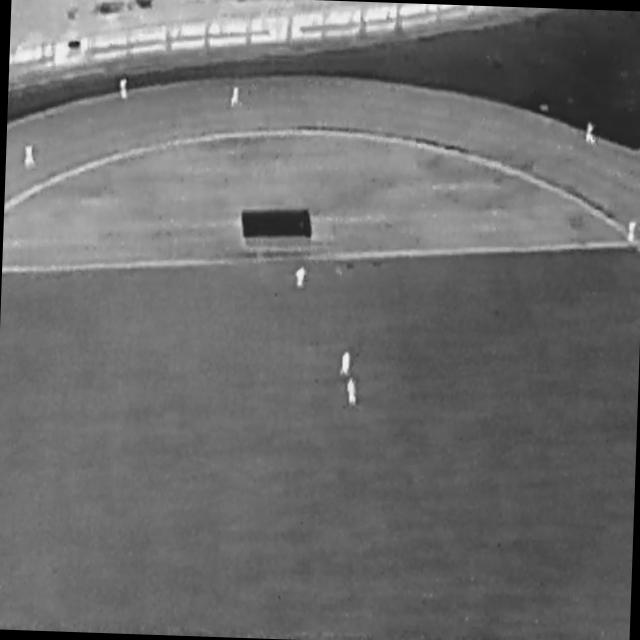person: (24, 145, 37, 171), (346, 379, 358, 405), (295, 266, 308, 290), (341, 352, 352, 378), (585, 122, 597, 145), (230, 87, 240, 110), (627, 221, 637, 244), (120, 79, 130, 100)
